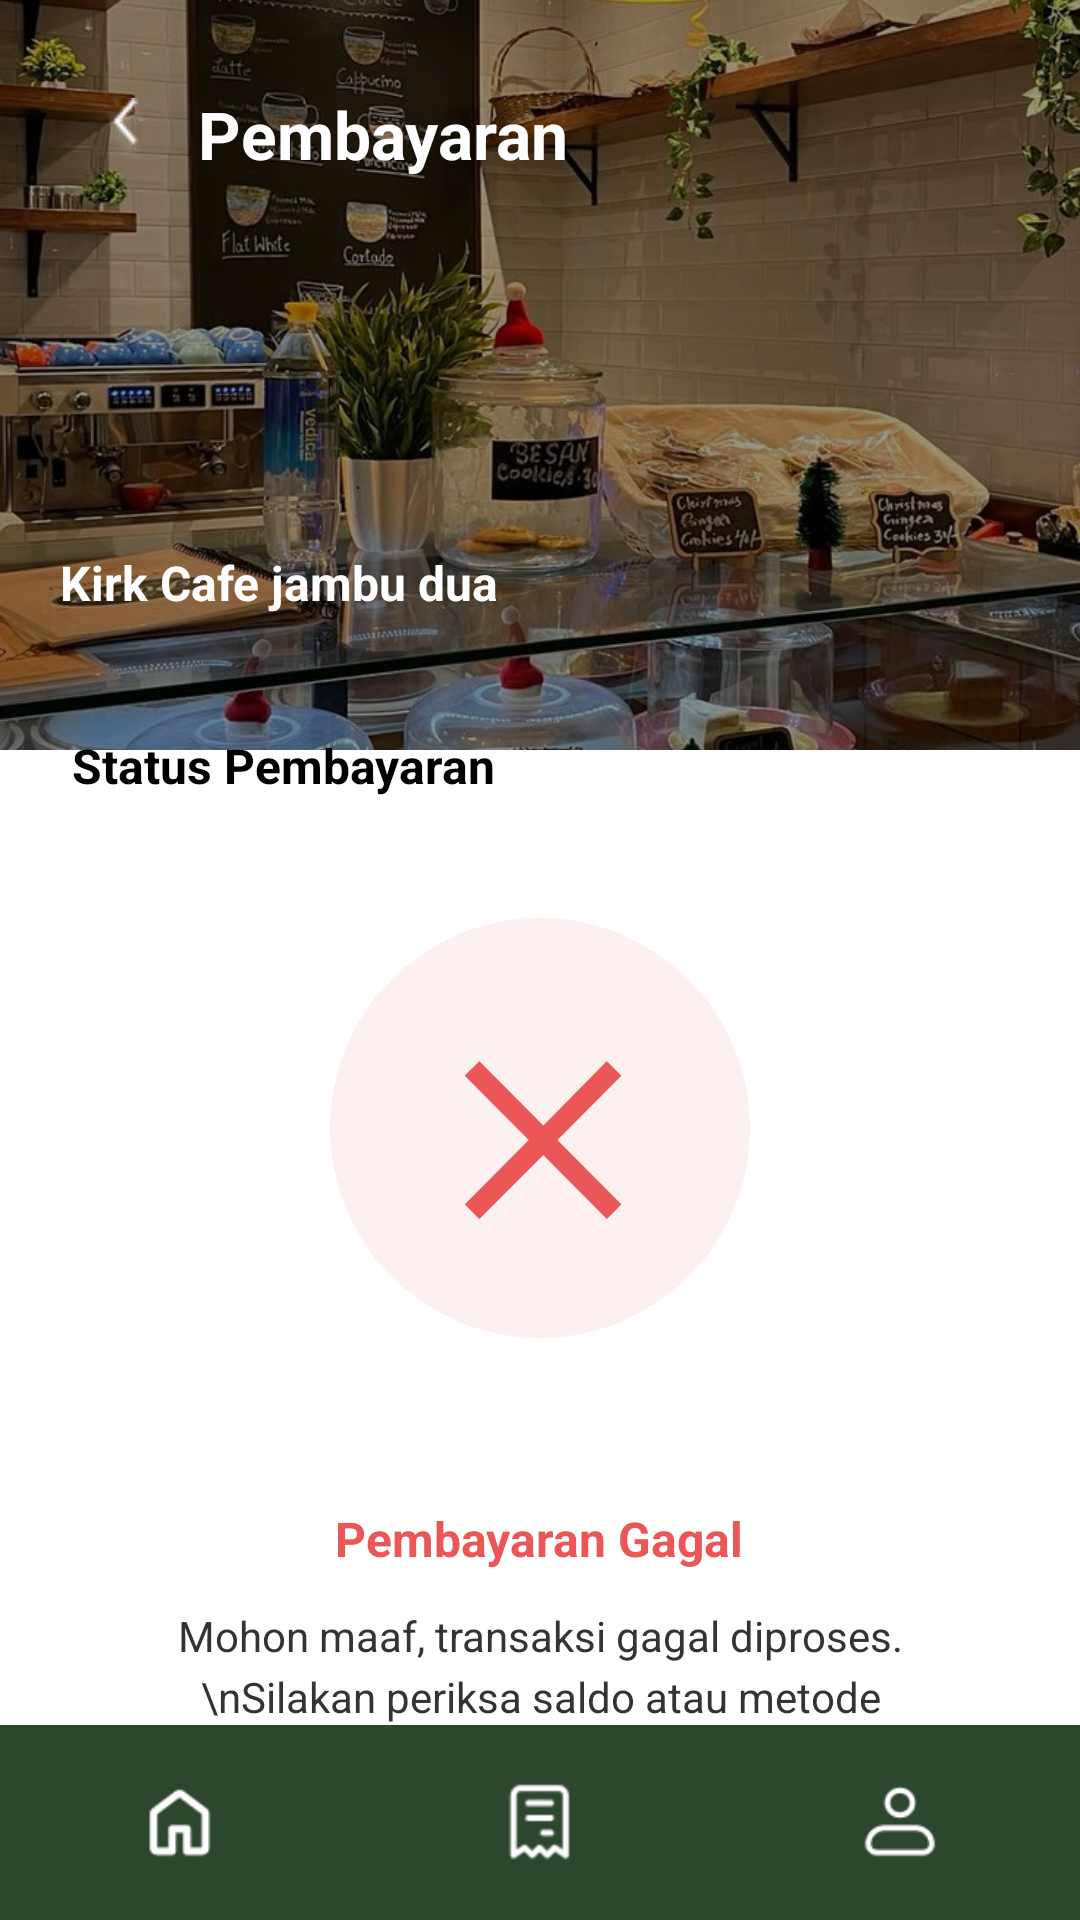

Where to tap for icons on this 1080×1920 app screen, as point (x, y):
home: point (180, 1822)
profile bar: point (900, 1822)
recipt: point (539, 1822)
sebelumnya: point (126, 134)
